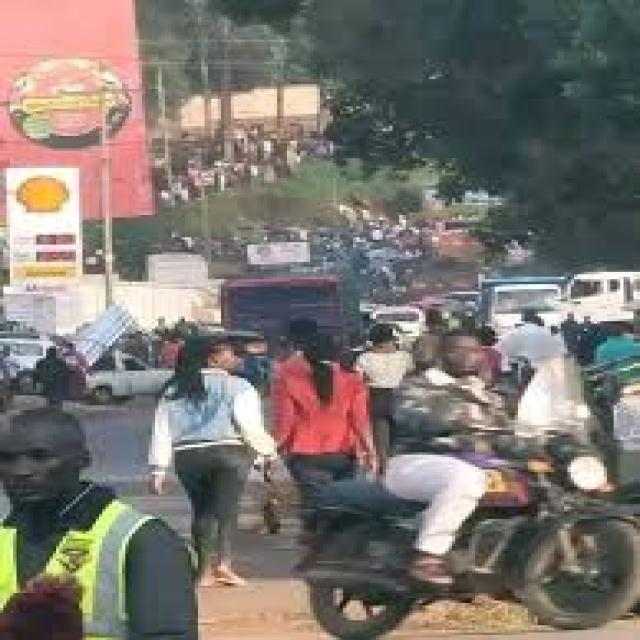bodaboda: (265, 462, 640, 631)
bus: (209, 263, 395, 343)
